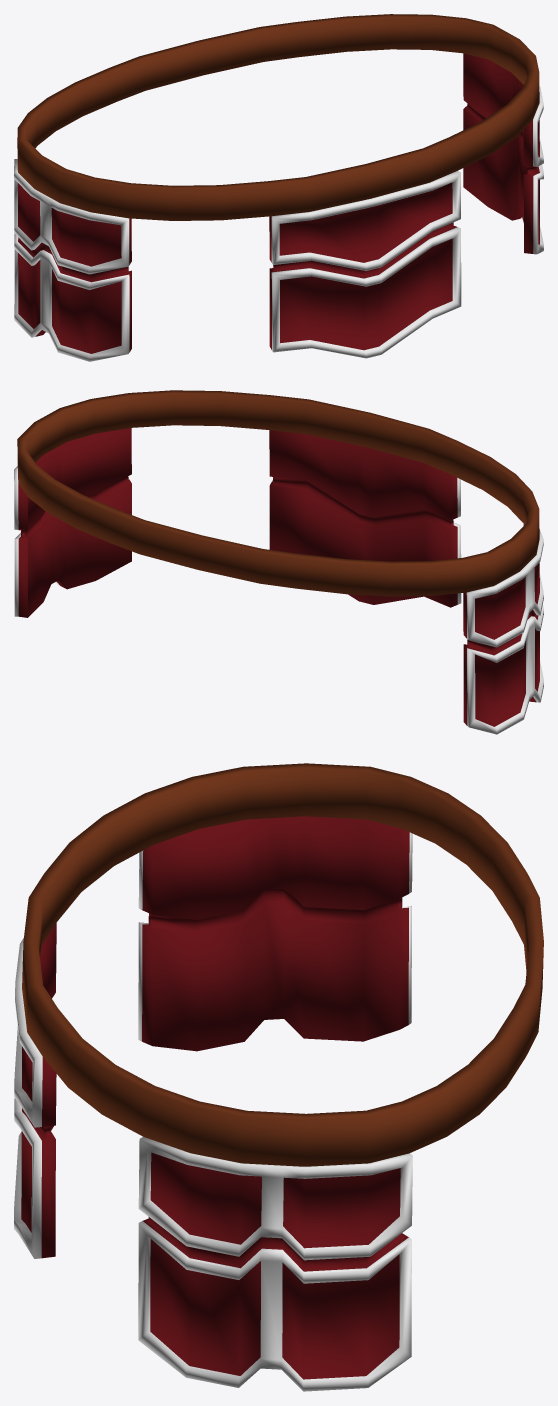
The model's file is mallar.fbx.
The picture shows the model from 3 angles, top to bottom: view 1: azimuth 30°, elevation 25°; view 2: azimuth 150°, elevation 25°; view 3: azimuth 270°, elevation 25°; orthographic projection. The views are drawn at different scales.
Parts seen in each view (by area): view 1: Cinturon.001, Cinturon; view 2: Cinturon.001, Cinturon; view 3: Cinturon.001, Cinturon.
Boxes of the visible parts, x1,y1,x2,y2 form: Cinturon.001: (14,53,543,361); Cinturon: (17,14,539,220); Cinturon.001: (14,428,543,734); Cinturon: (17,390,539,596); Cinturon.001: (14,816,412,1391); Cinturon: (22,763,543,1166).
Size of the model in its own units: 151 by 54.96 by 93.53.
